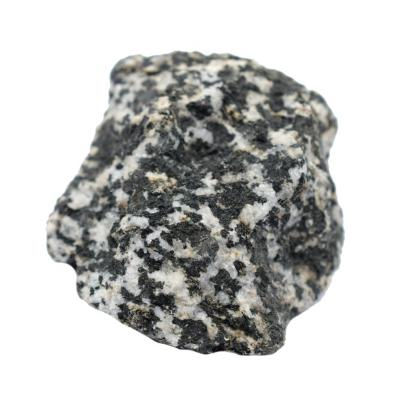Igneous_Diorite: (139, 97, 310, 327)
